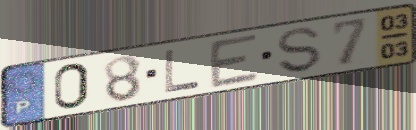0: (52, 61, 92, 111)
7: (330, 15, 371, 69)
8: (101, 54, 144, 104)
E: (208, 31, 262, 91)
L: (162, 48, 202, 95)
S: (275, 25, 324, 75)
